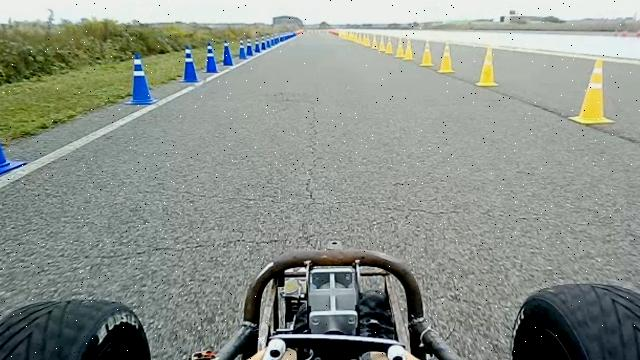blue cone: (0, 106, 27, 178), (124, 52, 158, 105), (178, 44, 201, 84), (203, 41, 219, 74), (222, 40, 234, 66), (238, 38, 247, 60), (245, 38, 254, 56), (254, 36, 261, 53)
yellow cone: (568, 57, 616, 125), (474, 46, 499, 86), (437, 40, 455, 74), (419, 39, 434, 67), (394, 38, 405, 58), (404, 40, 414, 60), (384, 39, 394, 54), (378, 34, 386, 52), (371, 34, 378, 50), (362, 33, 368, 46), (365, 33, 370, 47)
